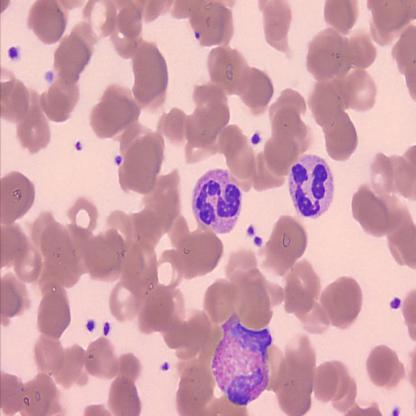Eosinophil: (212, 312, 274, 404)
